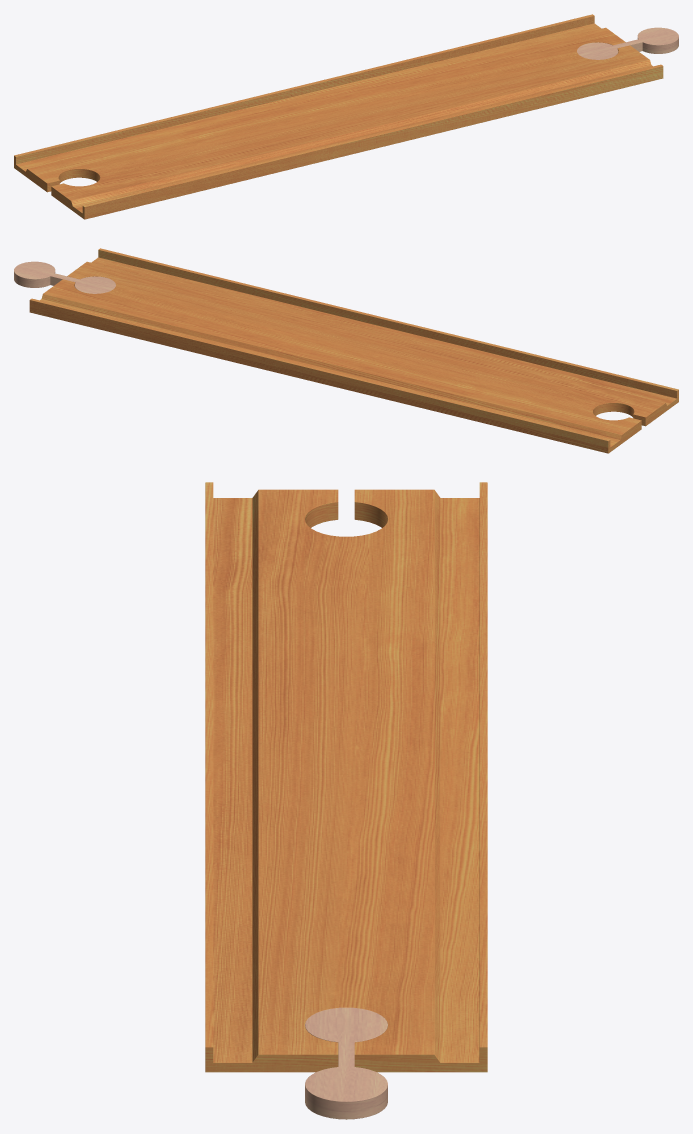
File: black_track.glb
3 views of the same model, one above another, from view 1: azimuth 30°, elevation 25°; view 2: azimuth 150°, elevation 25°; view 3: azimuth 270°, elevation 25° (orthographic). The views are drawn at different scales.
Parts seen in each view (by area): view 1: straight_wooden_rail; view 2: straight_wooden_rail; view 3: straight_wooden_rail.
Part boxes in pixels (bbox=[...]): straight_wooden_rail: bbox=[14, 14, 678, 219]; straight_wooden_rail: bbox=[14, 248, 678, 453]; straight_wooden_rail: bbox=[205, 482, 487, 1119].
Size of the model in its own units: 21.75 by 0.4193 by 4.24.
1 material, 1 textured.
